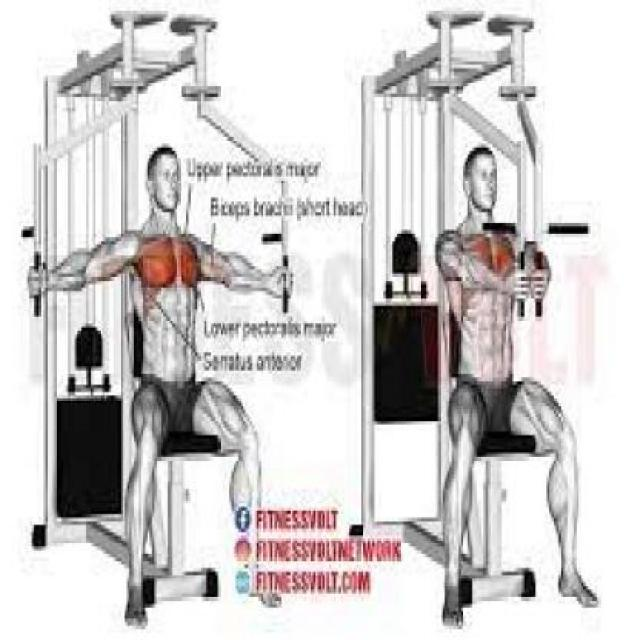chest fly machine: (13, 4, 304, 636), (349, 4, 602, 634)
